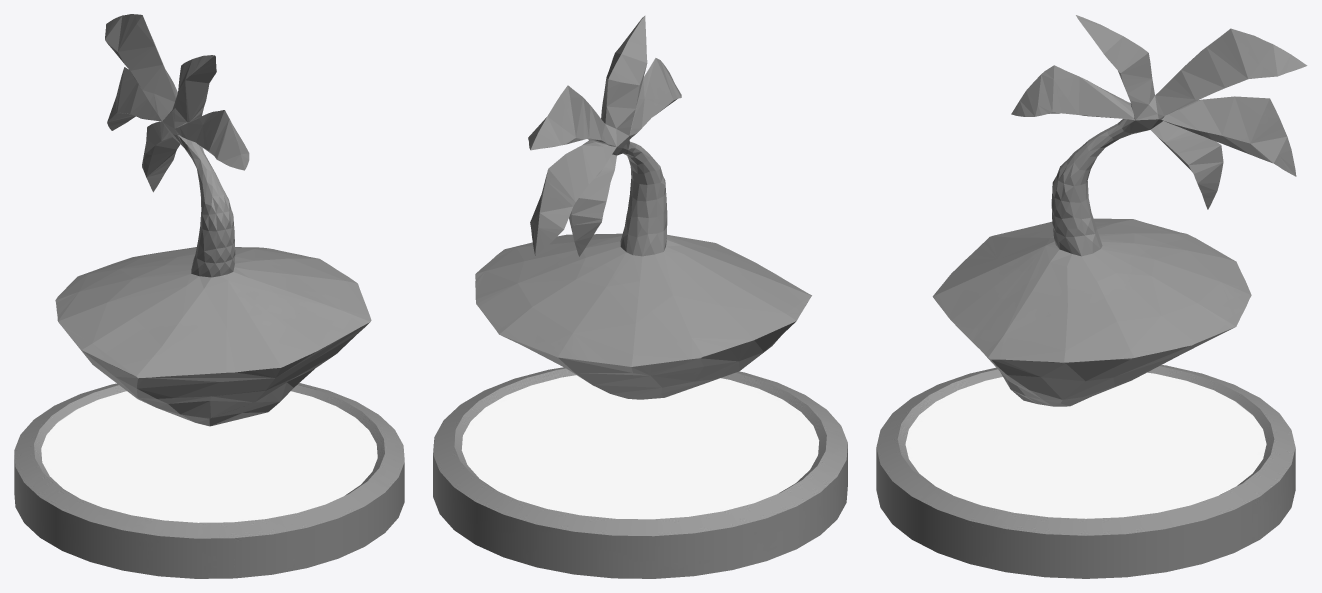
File: ironPalm.gltf
3 views of the same model, side by side, from view 1: azimuth 30°, elevation 25°; view 2: azimuth 150°, elevation 25°; view 3: azimuth 270°, elevation 25° (orthographic). The views are drawn at different scales.
Visible parts, largest first — view 1: Stand, Palm; view 2: Stand, Palm; view 3: Stand, Palm.
Boxes of the visible parts, x1,y1,x2,y2 form: Stand: [14, 383, 404, 578]; Palm: [55, 14, 371, 426]; Stand: [433, 367, 847, 578]; Palm: [475, 15, 811, 399]; Stand: [876, 365, 1295, 578]; Palm: [932, 15, 1307, 406].
Bounding box in the file's own units: 0.1547 × 0.1974 × 0.1591.
Materials: 1 (1 with a texture image).
